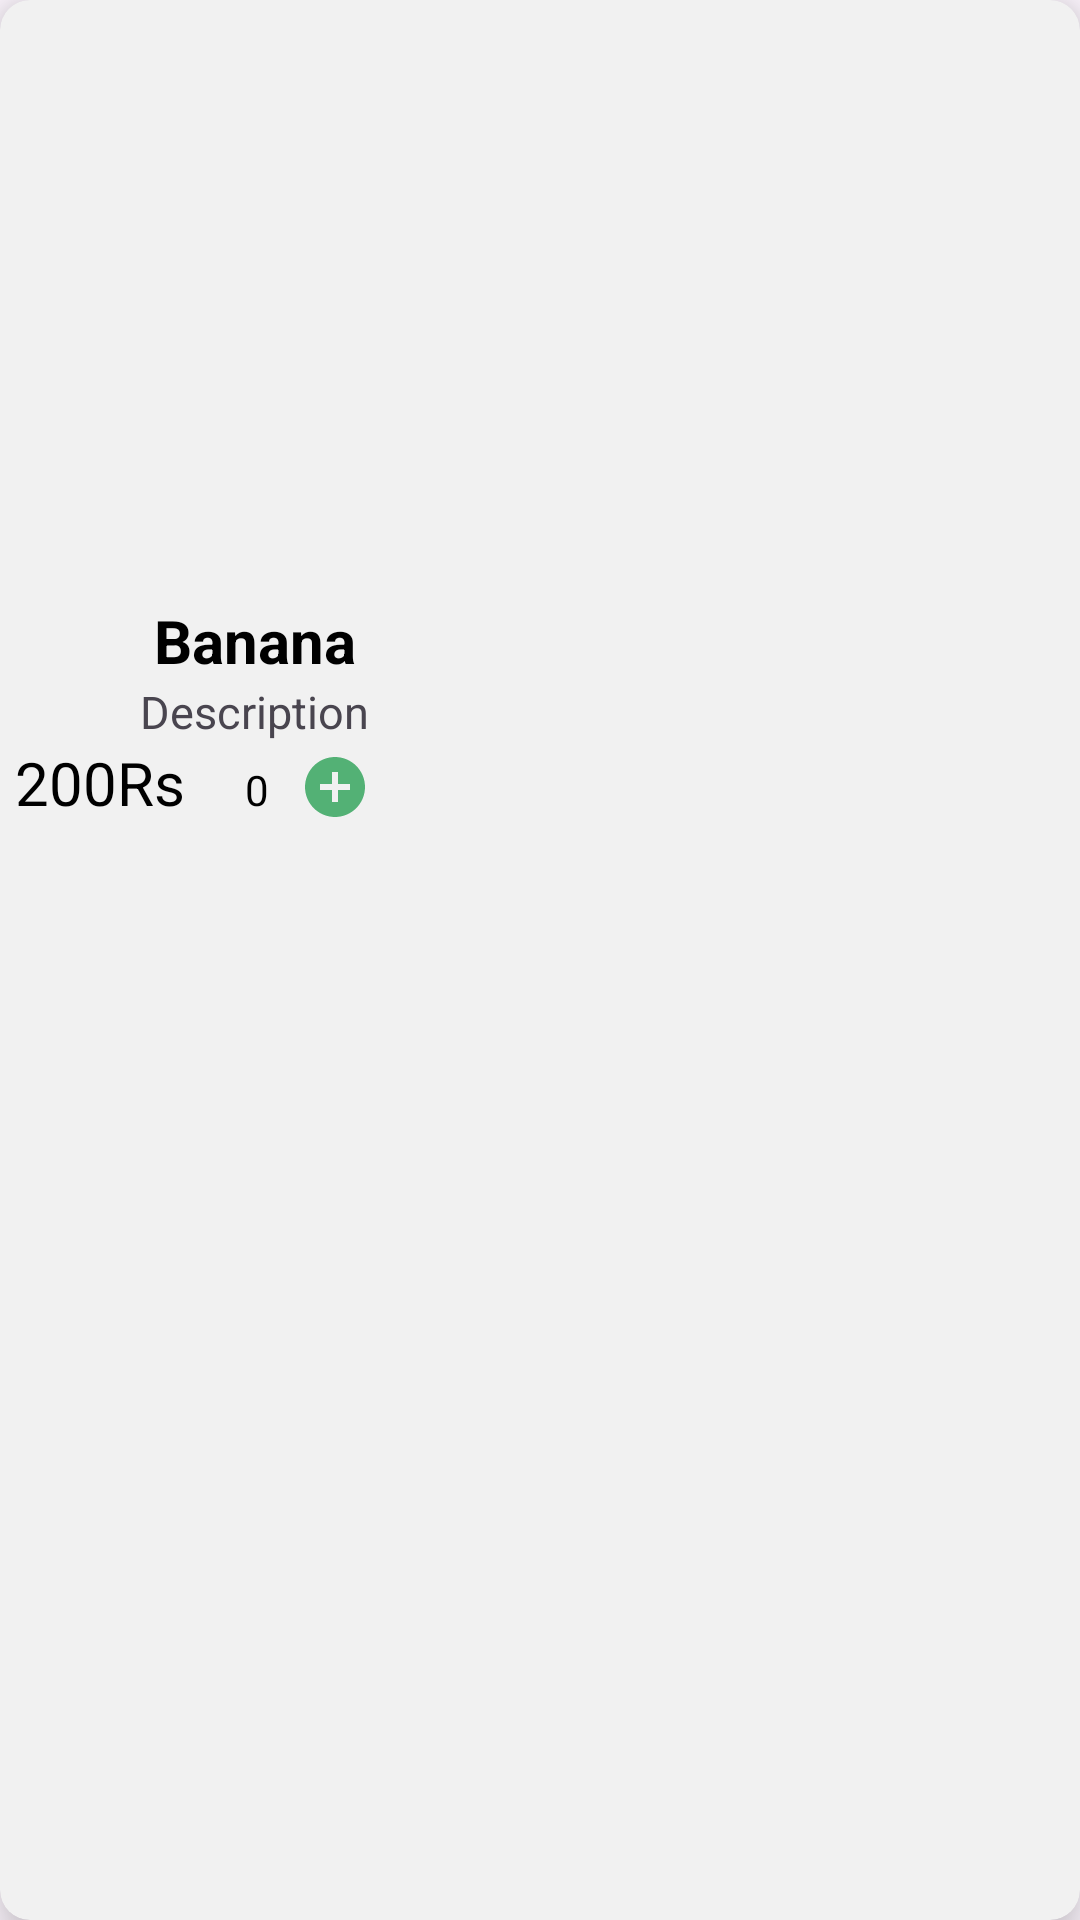

Icons on this 1080 × 1920 Android screen, each with the point to tap as [x,y]:
add circle: [335,787]
